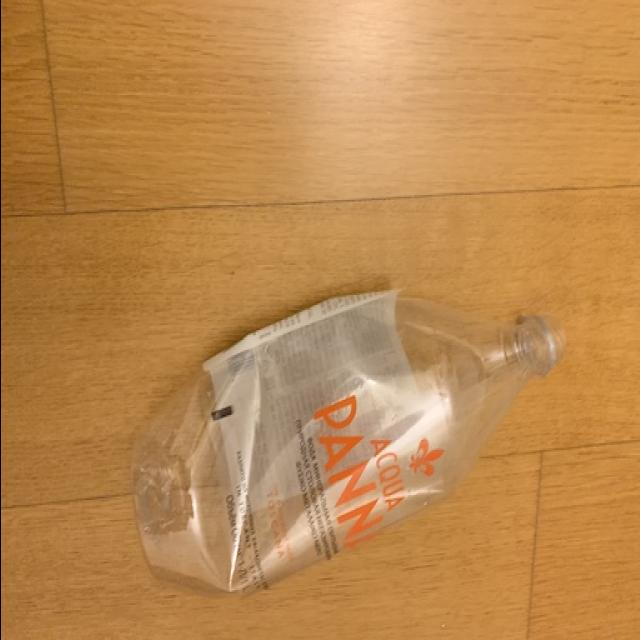PET: (130, 285, 566, 603)
